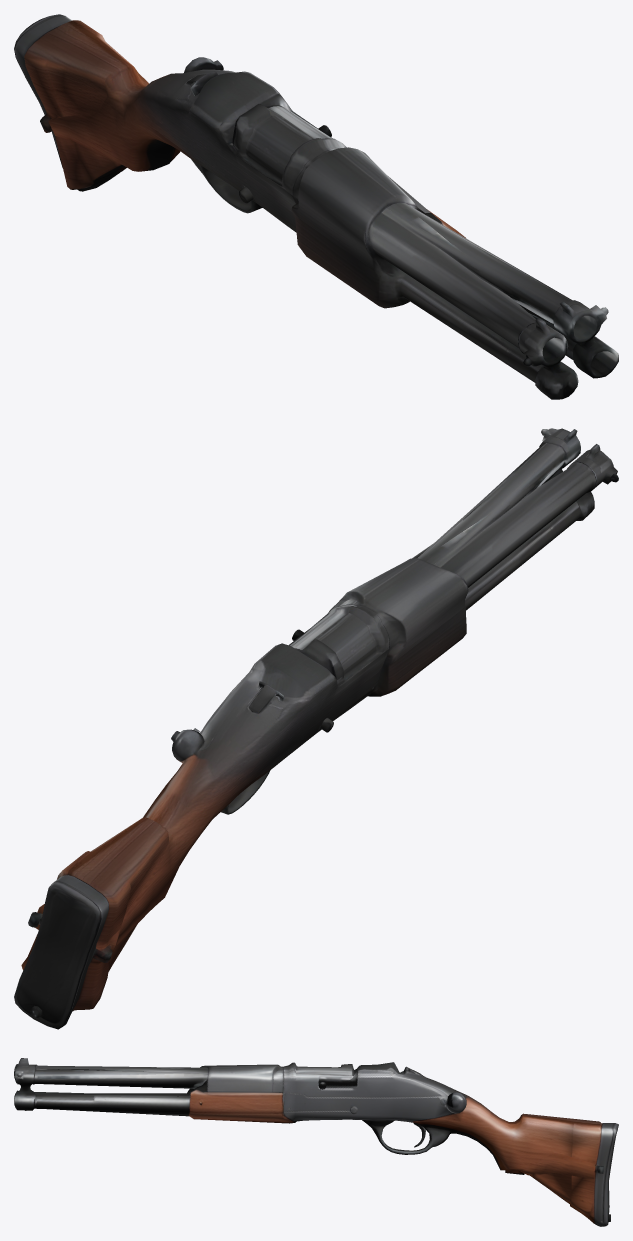
File: shotgun.glb
3 views of the same model, one above another, from view 1: azimuth 30°, elevation 25°; view 2: azimuth 150°, elevation 25°; view 3: azimuth 270°, elevation 25° (orthographic). The views are drawn at different scales.
Visible parts, largest first — view 1: tripo_node_39fefaf5-3644-431a-bf9d-d1a0d85226d0; view 2: tripo_node_39fefaf5-3644-431a-bf9d-d1a0d85226d0; view 3: tripo_node_39fefaf5-3644-431a-bf9d-d1a0d85226d0.
Boxes of the visible parts, <box> form: tripo_node_39fefaf5-3644-431a-bf9d-d1a0d85226d0: <box>14,14,618,399</box>; tripo_node_39fefaf5-3644-431a-bf9d-d1a0d85226d0: <box>14,428,618,1029</box>; tripo_node_39fefaf5-3644-431a-bf9d-d1a0d85226d0: <box>14,1058,618,1226</box>.
Size of the model in its own units: 0.1441 by 0.2809 by 1.
1 material, 1 textured.
